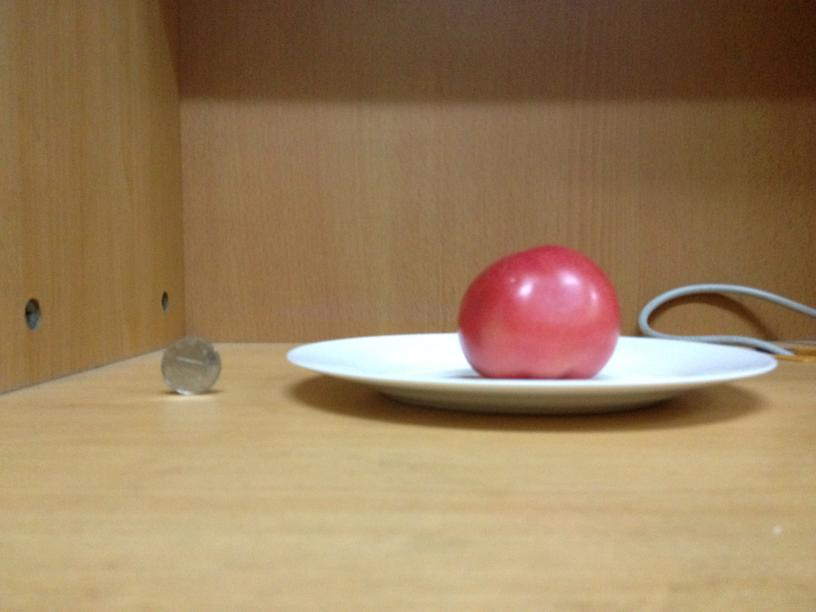coin: (154, 336, 223, 396)
tomato: (450, 244, 619, 379)
